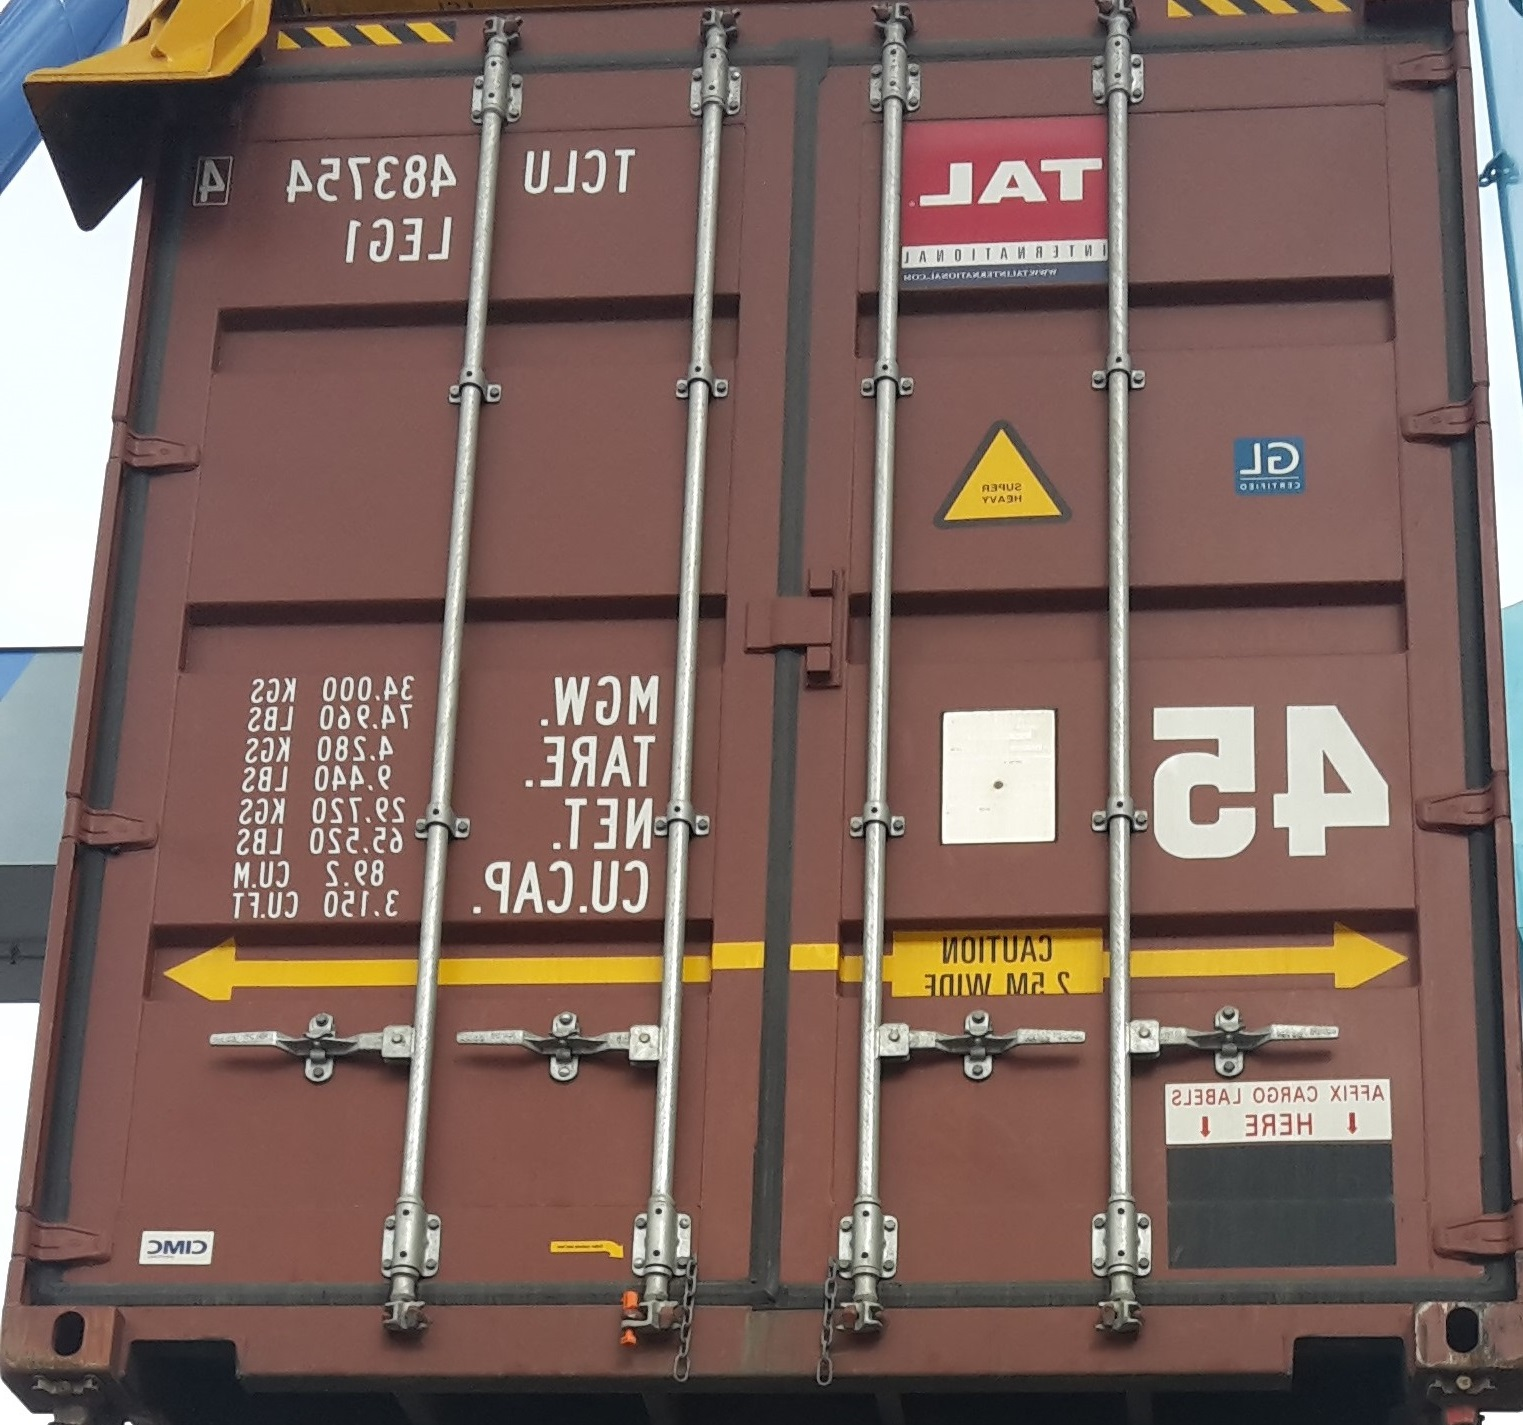container_door: (15, 1, 1494, 1361)
